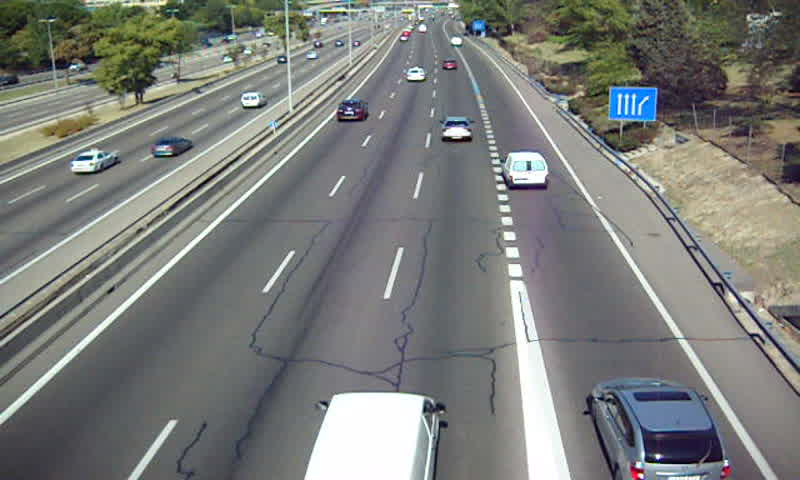car: (589, 378, 730, 480), (442, 117, 474, 143), (336, 98, 368, 120), (405, 66, 426, 83), (442, 58, 459, 71)
van: (302, 392, 440, 480), (503, 153, 551, 188)
